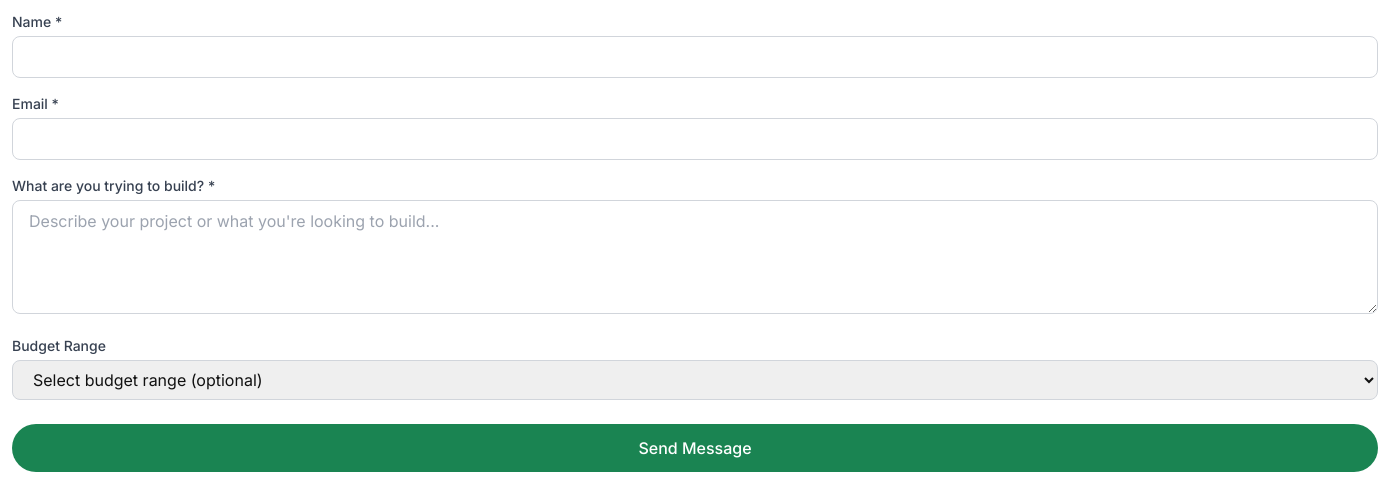
Scenario: ContactForm › shows success message after successful submission
Type "John Doe" into the field labelled "Name *" at (695, 57), box left=12, top=36, right=1378, bottom=78
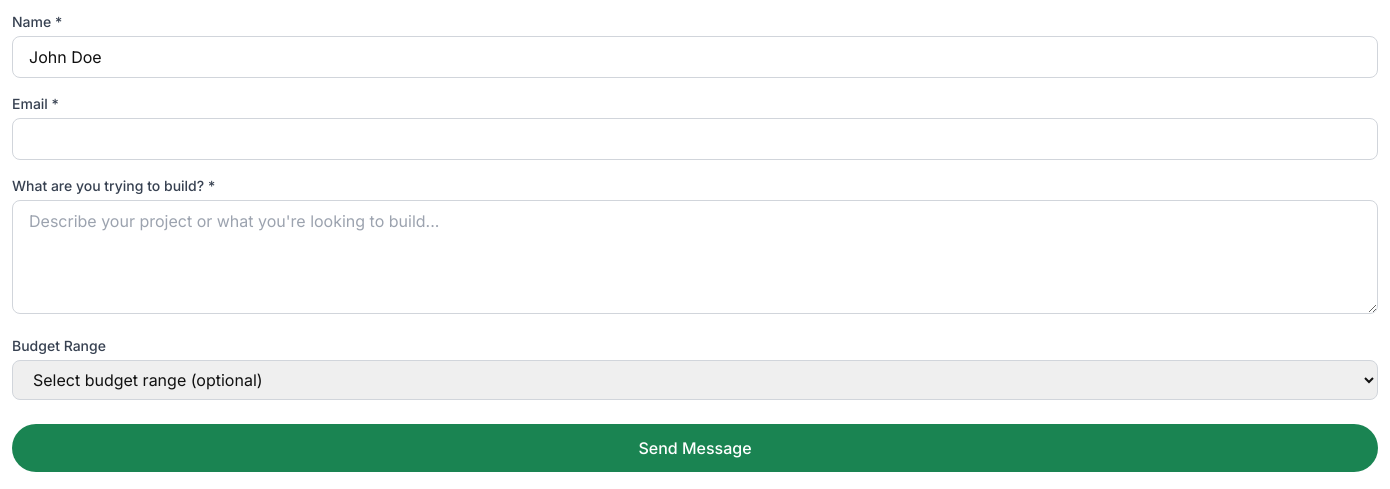
Type "john@example.com" into the field labelled "Email *" at (695, 139), box left=12, top=118, right=1378, bottom=160
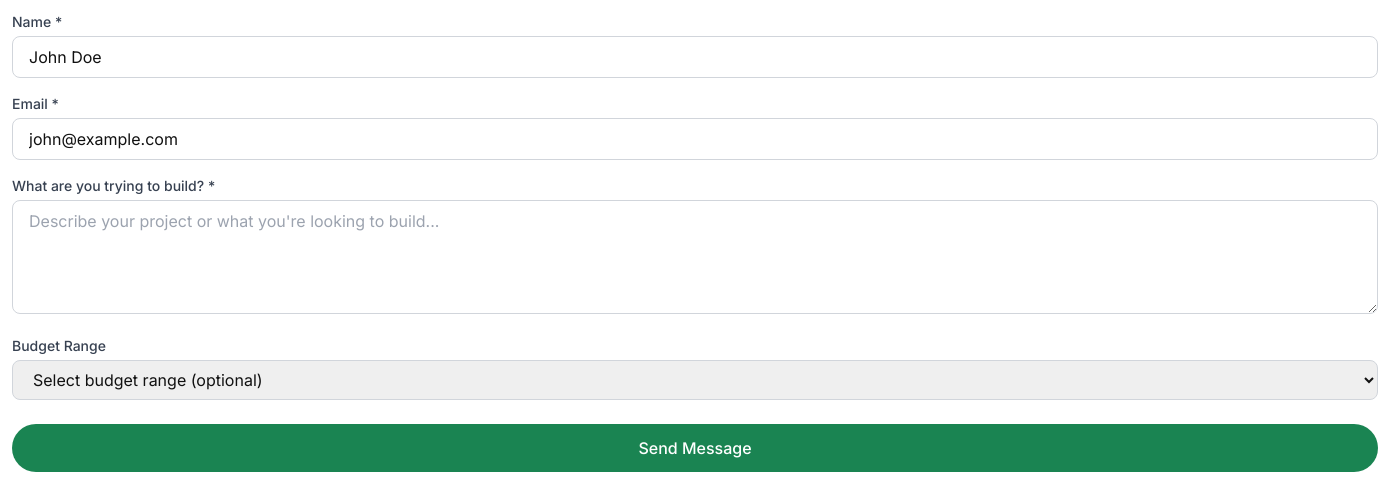
Type "A web application" into the text box labelled "What are you trying to build? *" at (695, 257), box left=12, top=200, right=1378, bottom=314
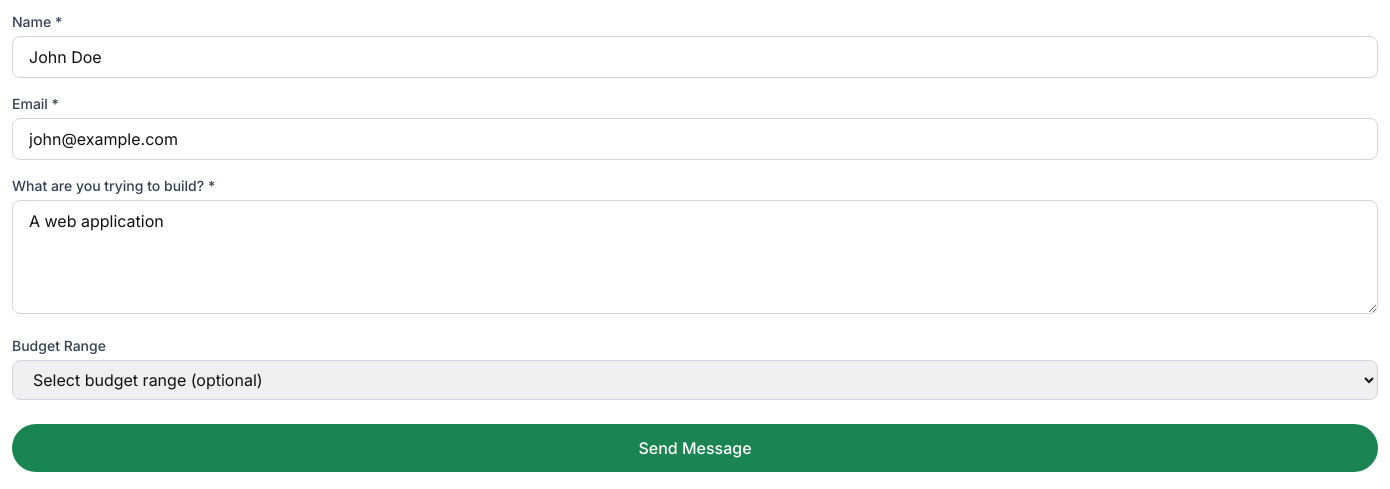
Click the button "Send Message" at (695, 448), box left=12, top=424, right=1378, bottom=472
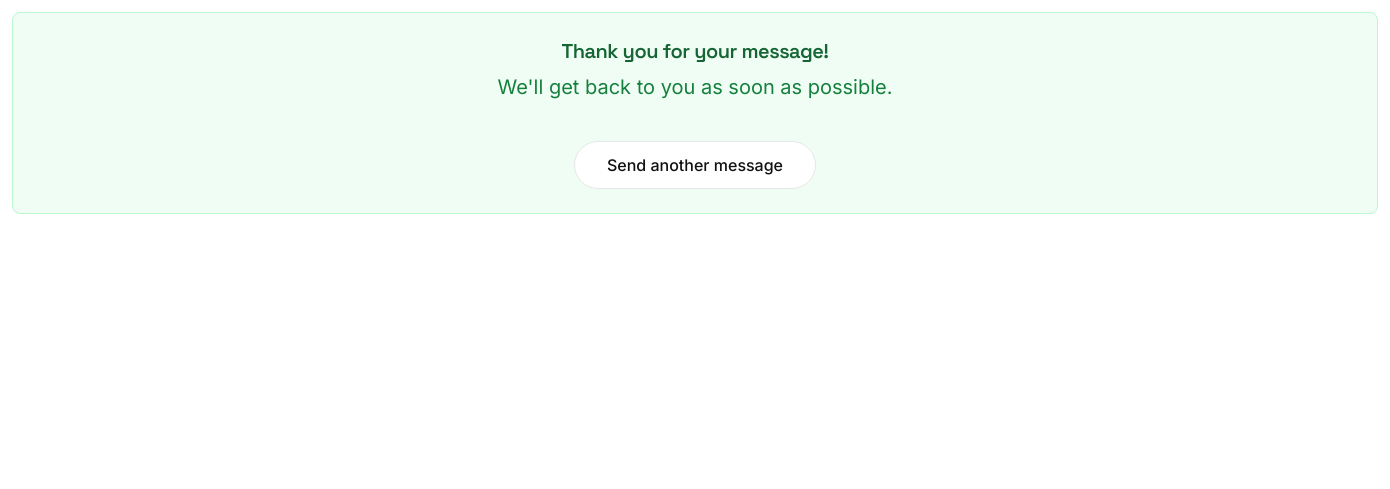
Expected: the heading "Thank you for your message!" is shown, left=562, top=38, right=829, bottom=64
